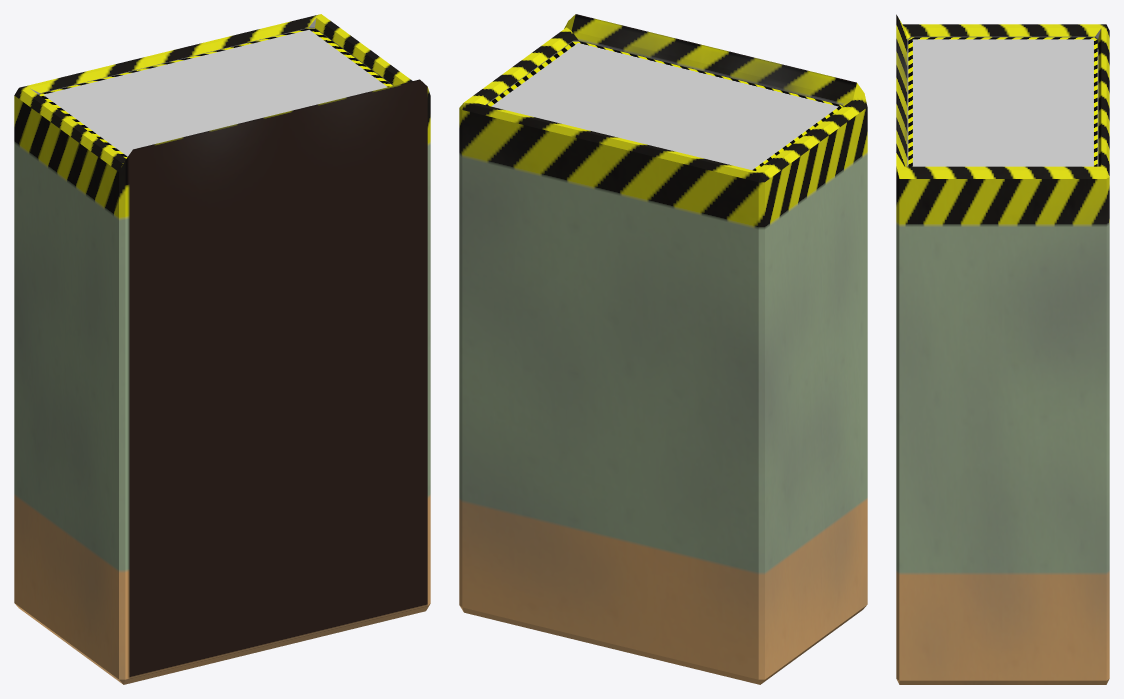
File: hangar1.fbx
3 renders of one model, left to right at view 1: azimuth 30°, elevation 25°; view 2: azimuth 150°, elevation 25°; view 3: azimuth 270°, elevation 25°, orthographic. The views are drawn at different scales.
Visible parts, largest first — view 1: model, gates; view 2: model, gates; view 3: model, gates, hangar_space.
Part boxes in pixels (x1=…): model: x1=14, y1=14, x2=430, y2=684; gates: x1=39, y1=28, x2=392, y2=158; model: x1=459, y1=14, x2=867, y2=684; gates: x1=486, y1=41, x2=842, y2=170; model: x1=896, y1=14, x2=1109, y2=684; gates: x1=908, y1=37, x2=1097, y2=166; hangar_space: x1=907, y1=49, x2=1098, y2=166.
Size of what is drawn, in the model's own units: 3.75 by 6.15 by 2.25.
4 materials, 3 textured.
